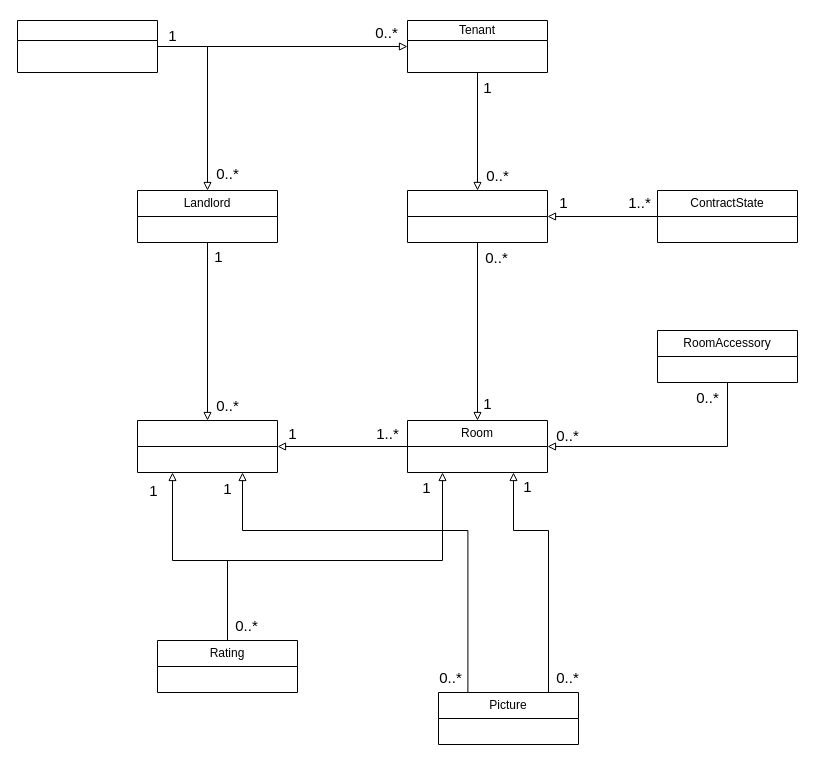
The diagram is 815 pixels wide and 762 high, and some of its shapes have lost their labels. Here are the shapes that lost their labels. From the top down, the centre of each, then its label:
At (87,46): "User".
At (477,216): "Contract".
At (207,446): "Location".
